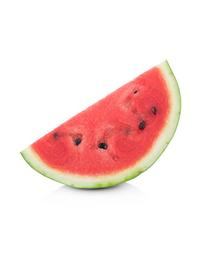watermelon: (19, 58, 185, 192)
